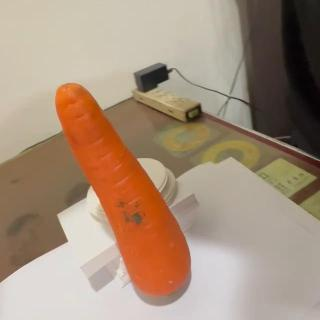carrot: (55, 81, 193, 297)
